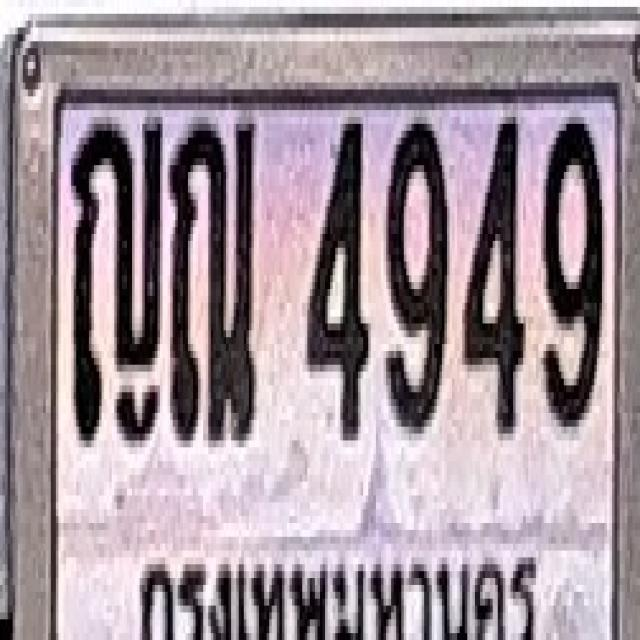4: (305, 114, 368, 437), (462, 110, 523, 434)
9: (386, 114, 447, 430), (542, 117, 603, 427)
A13: (68, 110, 162, 427)
A19: (168, 113, 256, 444)
BKK: (134, 544, 542, 640)
